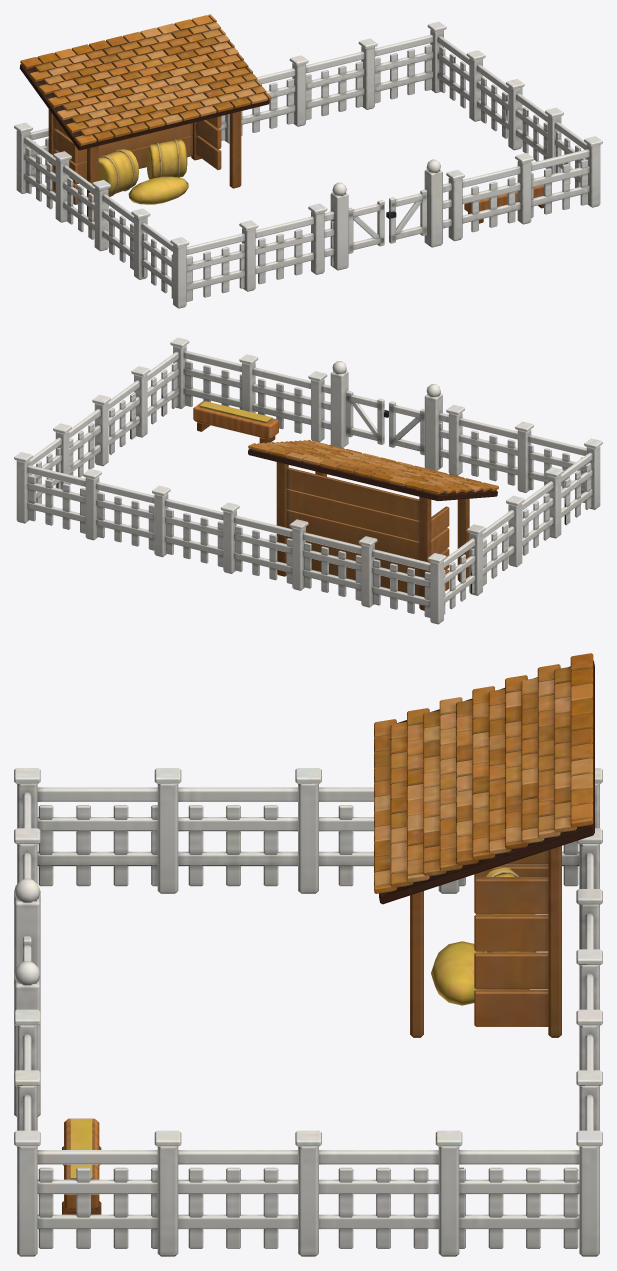
Rendered from guernsey_pasture.glb.
3 renders of one model, top to bottom at view 1: azimuth 30°, elevation 25°; view 2: azimuth 150°, elevation 25°; view 3: azimuth 270°, elevation 25°, orthographic. The views are drawn at different scales.
Visible parts, largest first — view 1: guernsey_pasture, gate1, gate0; view 2: guernsey_pasture, gate1, gate0; view 3: guernsey_pasture.
Part boxes in pixels (<box>): guernsey_pasture: <box>14,14,602,308</box>; gate1: <box>386,189,427,243</box>; gate0: <box>348,200,384,253</box>; guernsey_pasture: <box>14,337,602,624</box>; gate1: <box>346,390,388,444</box>; gate0: <box>389,401,424,455</box>; guernsey_pasture: <box>14,653,602,1256</box>.
Size of the model in its own units: 2.99 by 0.9342 by 1.99.
Materials: 1 (1 with a texture image).
